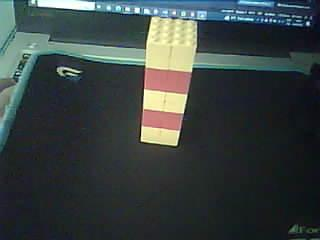lego: (140, 16, 198, 145)
